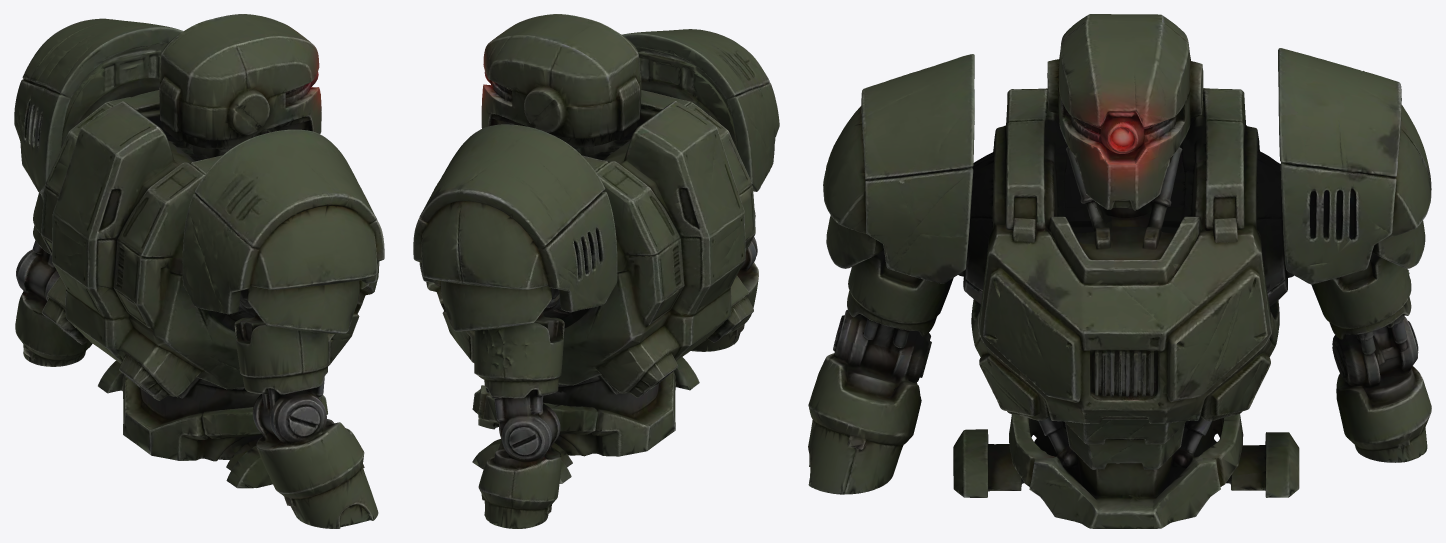
File: fs-mech.glb
3 renders of one model, left to right at view 1: azimuth 30°, elevation 25°; view 2: azimuth 150°, elevation 25°; view 3: azimuth 270°, elevation 25°, orthographic. The views are drawn at different scales.
Visible parts, largest first — view 1: tripo_node_682a9673-3a0d-4cb3-8928-d23d42e519c7; view 2: tripo_node_682a9673-3a0d-4cb3-8928-d23d42e519c7; view 3: tripo_node_682a9673-3a0d-4cb3-8928-d23d42e519c7.
Boxes of the visible parts, x1=… form: tripo_node_682a9673-3a0d-4cb3-8928-d23d42e519c7: x1=14, y1=14, x2=384, y2=528; tripo_node_682a9673-3a0d-4cb3-8928-d23d42e519c7: x1=413, y1=14, x2=779, y2=528; tripo_node_682a9673-3a0d-4cb3-8928-d23d42e519c7: x1=808, y1=14, x2=1431, y2=528.
Size of the model in its own units: 0.6176 by 0.806 by 0.9994.
1 material, 1 textured.
